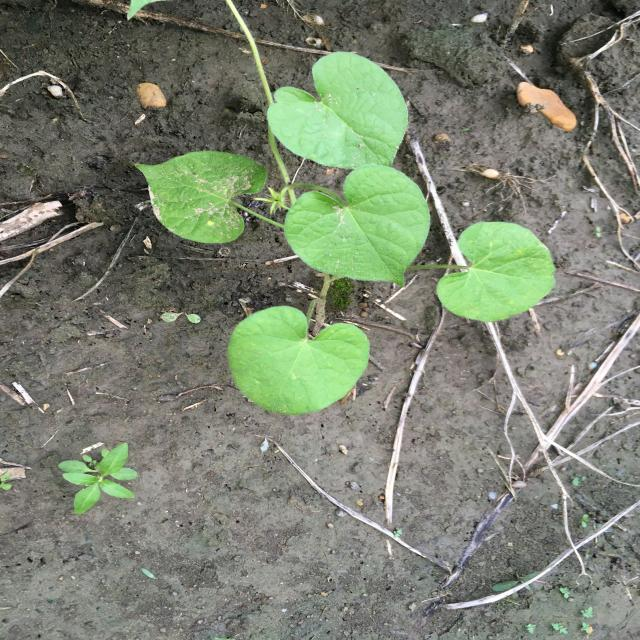Eclipta: (56, 441, 141, 516)
MorningGlory: (131, 2, 558, 420)
